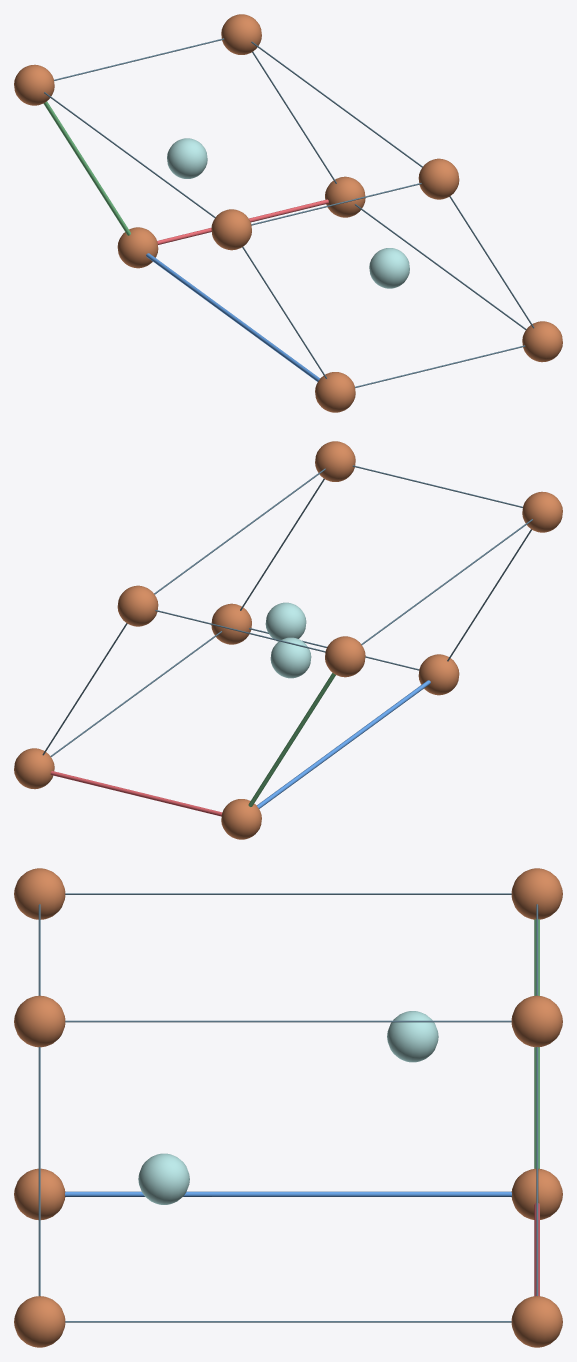
The model's file is chat-ferrous-bromide.glb.
3 views of the same model, one above another, from view 1: azimuth 30°, elevation 25°; view 2: azimuth 150°, elevation 25°; view 3: azimuth 270°, elevation 25° (orthographic). The views are drawn at different scales.
Visible parts, largest first — view 1: Fe · Fe · 1 (×8), Ô mạng và các trục a, b, c, Br · Br · 1 (×2); view 2: Fe · Fe · 1 (×8), Ô mạng và các trục a, b, c, Br · Br · 1 (×2); view 3: Fe · Fe · 1 (×8), Ô mạng và các trục a, b, c, Br · Br · 1 (×2).
Boxes of the visible parts, x1,y1,x2,y2 form: Fe · Fe · 1 (×8): [14, 14, 562, 412]; Ô mạng và các trục a, b, c: [43, 38, 534, 387]; Br · Br · 1 (×2): [167, 138, 409, 288]; Fe · Fe · 1 (×8): [14, 441, 562, 839]; Ô mạng và các trục a, b, c: [42, 465, 532, 816]; Br · Br · 1 (×2): [265, 602, 311, 678]; Fe · Fe · 1 (×8): [14, 868, 562, 1347]; Ô mạng và các trục a, b, c: [38, 893, 539, 1322]; Br · Br · 1 (×2): [138, 1011, 438, 1204].
Size of the model in its own units: 6.25 by 3.88 by 6.81.
